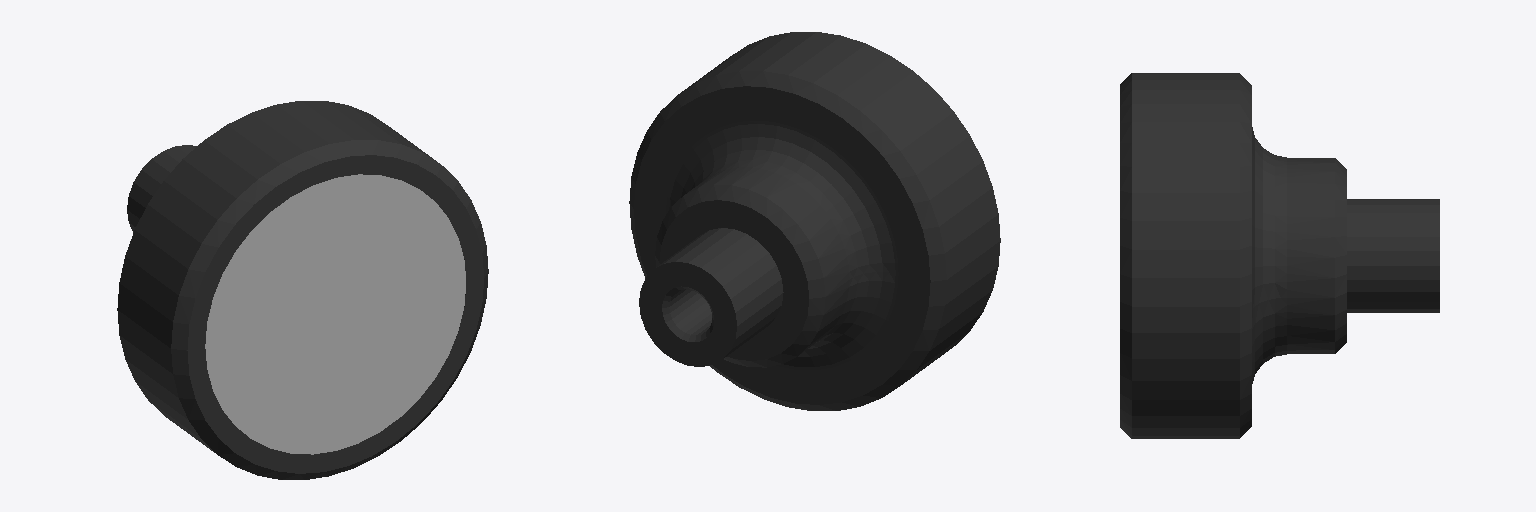
3 renders of one model, left to right at view 1: azimuth 30°, elevation 25°; view 2: azimuth 150°, elevation 25°; view 3: azimuth 270°, elevation 25°, orthographic.
Visible parts, largest first — view 1: gn_3663-62-m10-3_1; view 2: gn_3663-62-m10-3_1; view 3: gn_3663-62-m10-3_1.
Boxes of the visible parts, x1,y1,x2,y2 form: gn_3663-62-m10-3_1: [117, 101, 488, 479]; gn_3663-62-m10-3_1: [629, 32, 1000, 410]; gn_3663-62-m10-3_1: [1120, 73, 1439, 438].
Size of the model in its own units: 61.4 by 61.4 by 53.5.